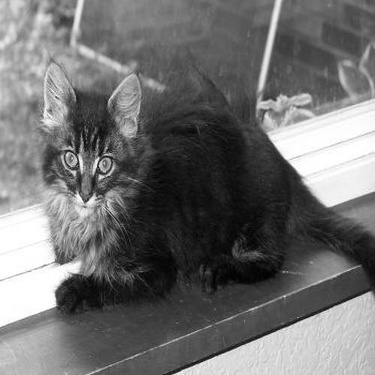cat: (1, 59, 340, 297)
